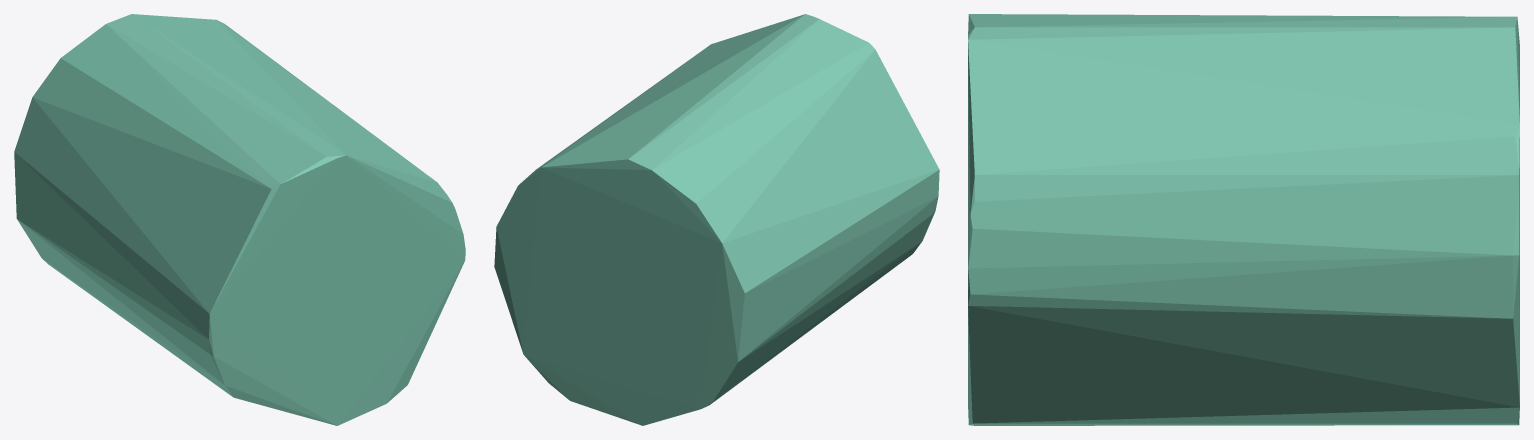
File: food_canned_fruit_a02.glb
3 views of the same model, side by side, from view 1: azimuth 30°, elevation 25°; view 2: azimuth 150°, elevation 25°; view 3: azimuth 270°, elevation 25° (orthographic). The views are drawn at different scales.
Parts seen in each view (by area): view 1: geometry_0; view 2: geometry_0; view 3: geometry_0.
Boxes of the visible parts, <box> form: geometry_0: <box>14,14,465,425</box>; geometry_0: <box>494,14,939,425</box>; geometry_0: <box>968,14,1519,425</box>.
Bounding box in the file's own units: 0.3572 × 0.3585 × 0.48.
